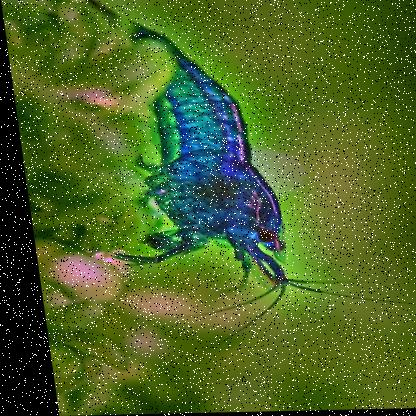shrimp: (70, 22, 285, 305)
